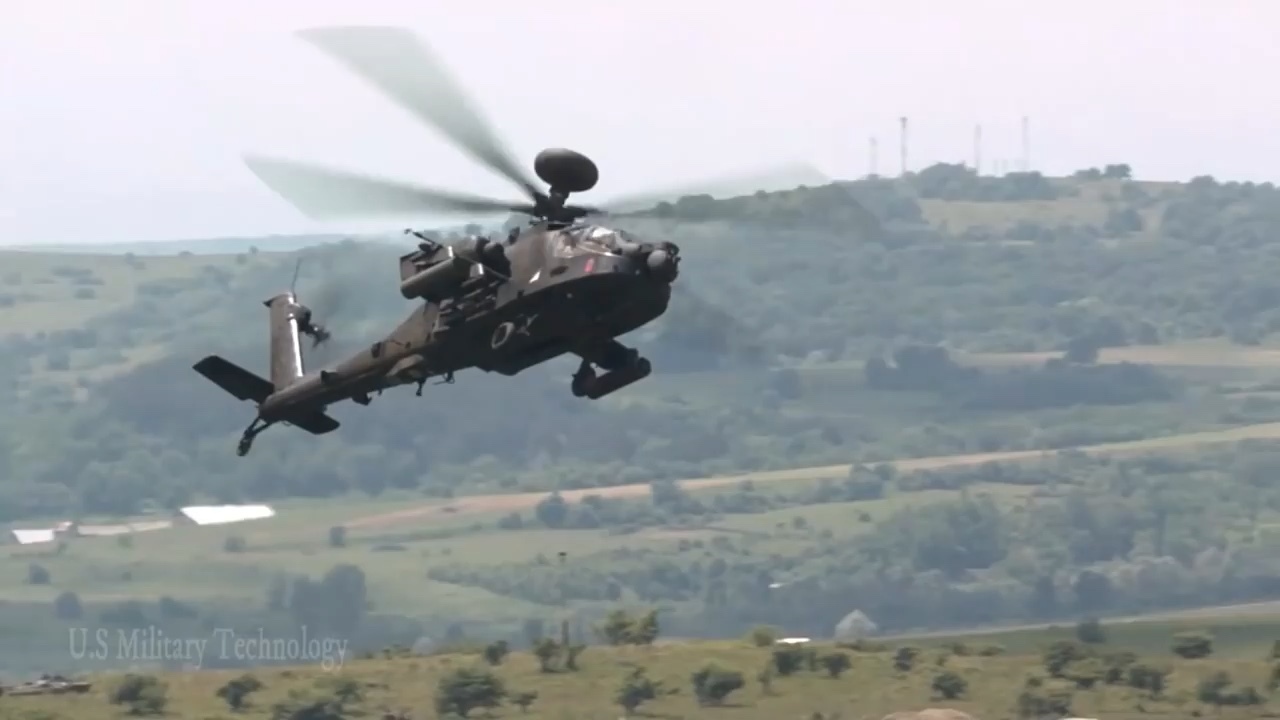ah64: (189, 24, 882, 461)
